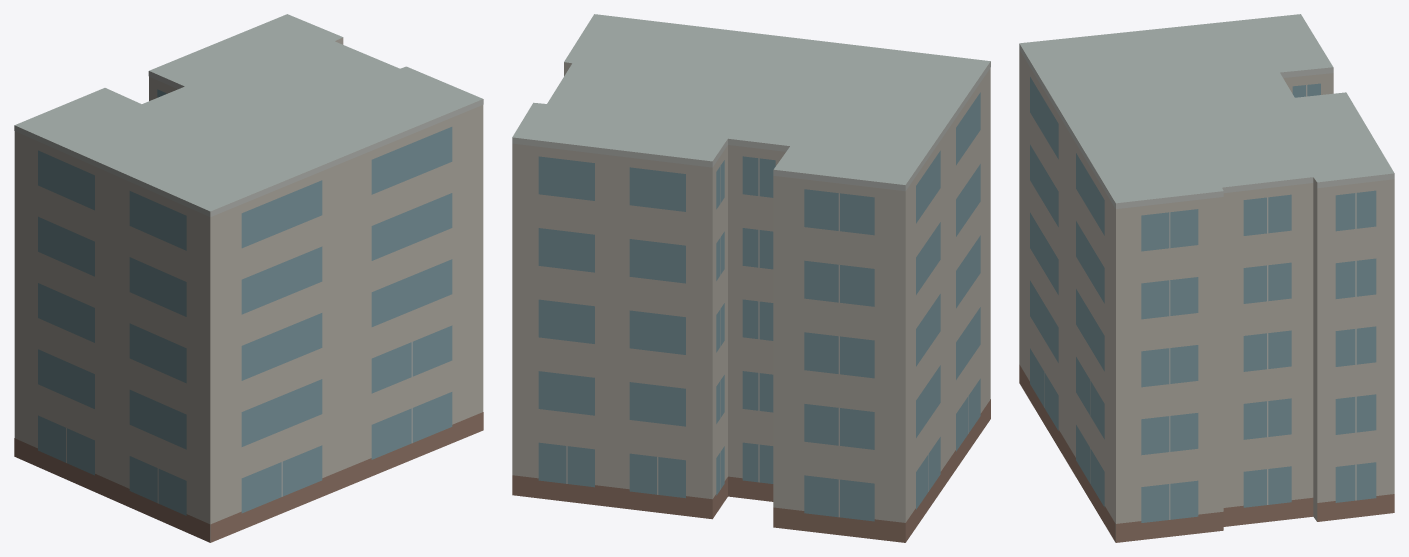
File: survey-upis-32679137.glb
3 views of the same model, side by side, from view 1: azimuth 30°, elevation 25°; view 2: azimuth 150°, elevation 25°; view 3: azimuth 270°, elevation 25° (orthographic). The views are drawn at different scales.
Visible parts, largest first — view 1: survey-upis-32679137.tmp; view 2: survey-upis-32679137.tmp; view 3: survey-upis-32679137.tmp.
Part boxes in pixels (x1,y1,x2,y2): survey-upis-32679137.tmp: (14, 14, 483, 542); survey-upis-32679137.tmp: (512, 14, 990, 542); survey-upis-32679137.tmp: (1019, 14, 1394, 542).
Size of the model in its own units: 16.99 by 14.2 by 14.24.
